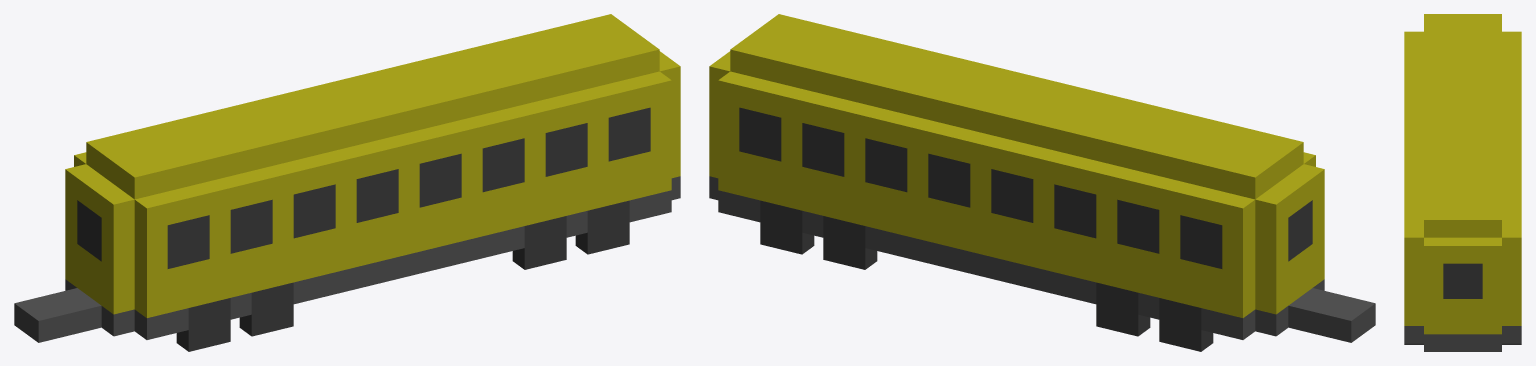
The model's file is train-trailer-v3-yellow.gltf.
3 renders of one model, left to right at view 1: azimuth 30°, elevation 25°; view 2: azimuth 150°, elevation 25°; view 3: azimuth 270°, elevation 25°, orthographic. The views are drawn at different scales.
Parts seen in each view (by area): view 1: model, wheels; view 2: model, wheels; view 3: model.
Boxes of the visible parts, x1,y1,x2,y2 form: model: (14,14,680,342); wheels: (176,200,629,351); model: (709,14,1375,342); wheels: (760,200,1213,351); model: (1404,14,1521,351).
Size of the model in its own units: 3 by 0.8 by 0.6.
2 materials, 2 textured.
